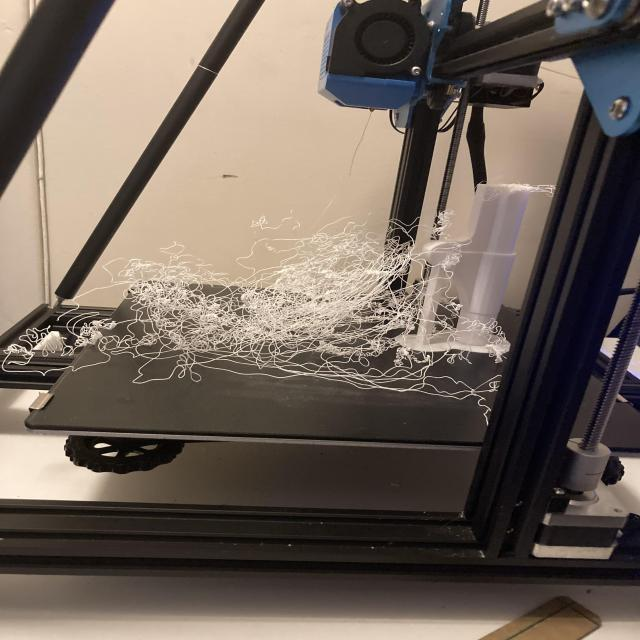spaghetti: (1, 207, 505, 424), (518, 176, 561, 202)
